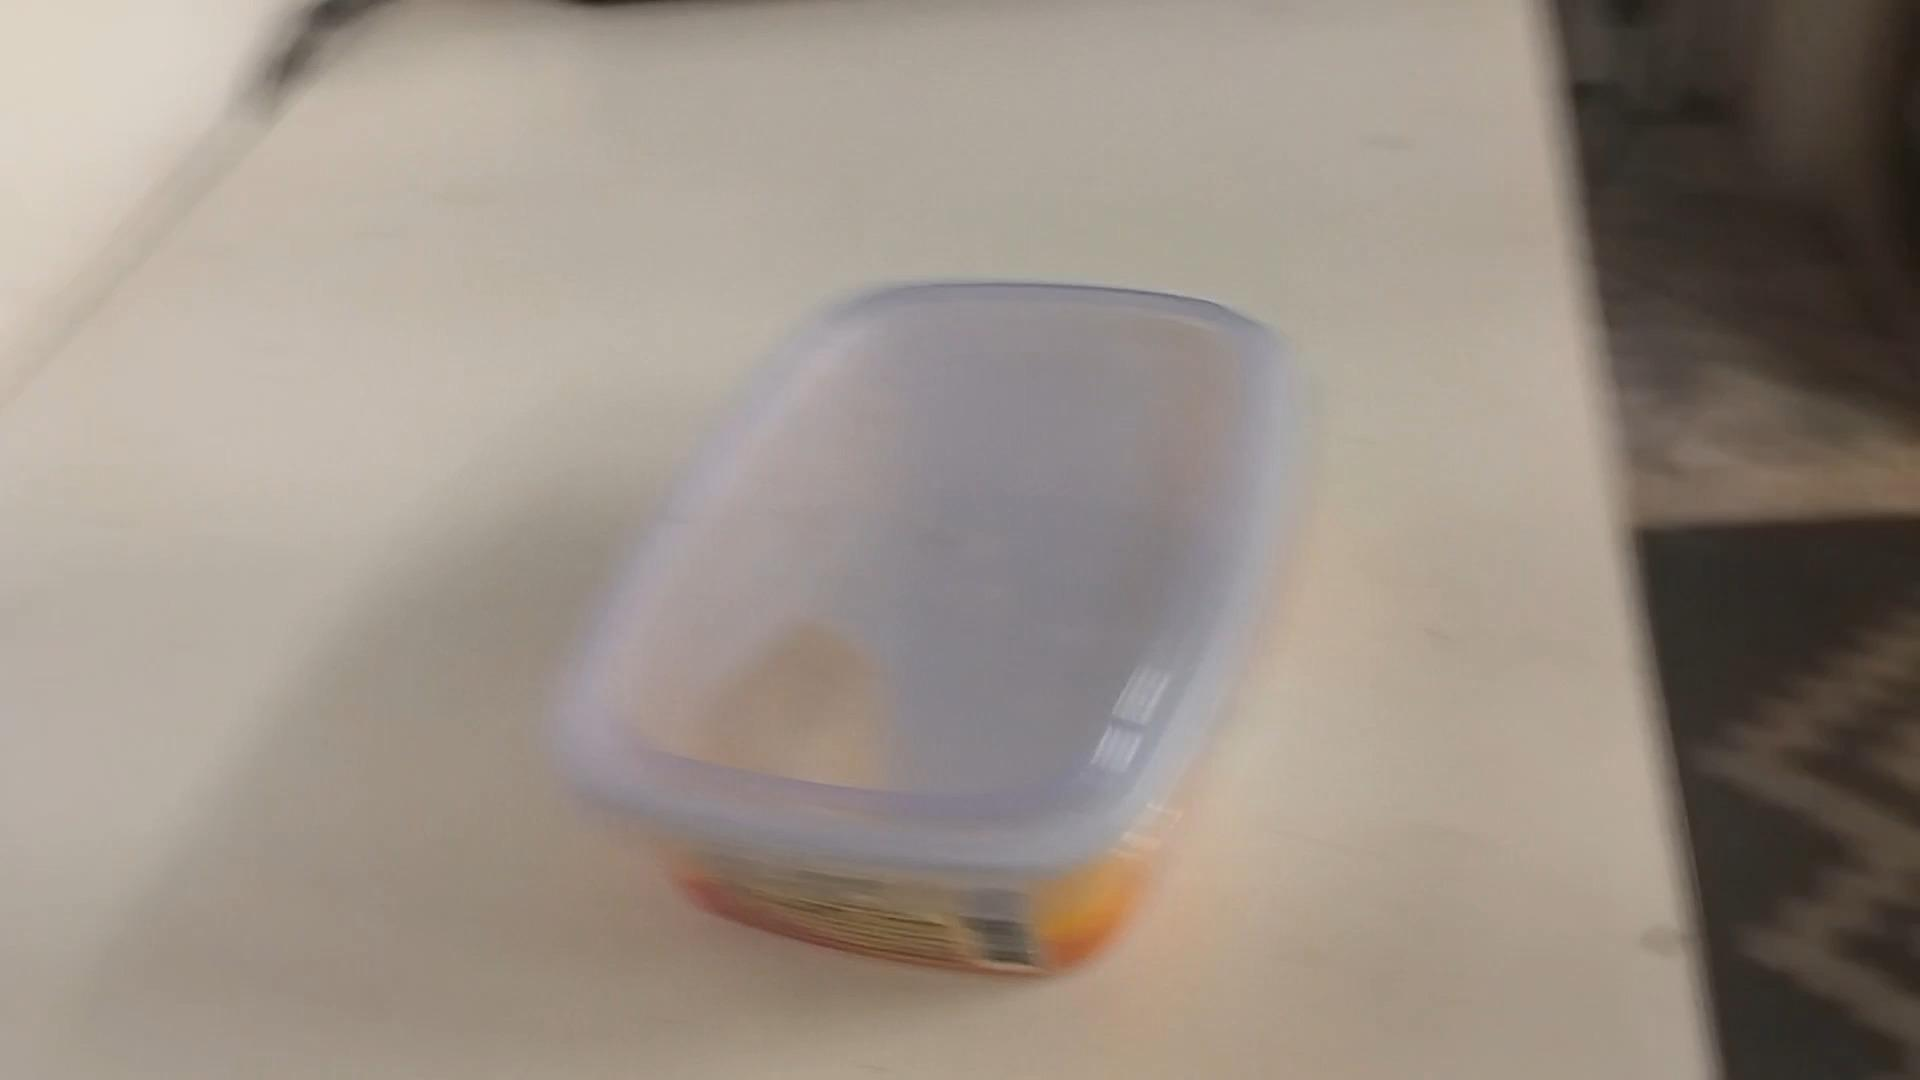butter: (545, 280, 1294, 982)
